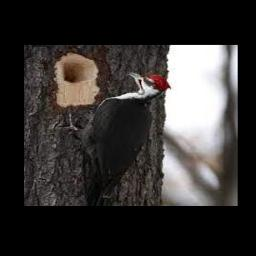Woodpecker: (59, 71, 171, 206)
